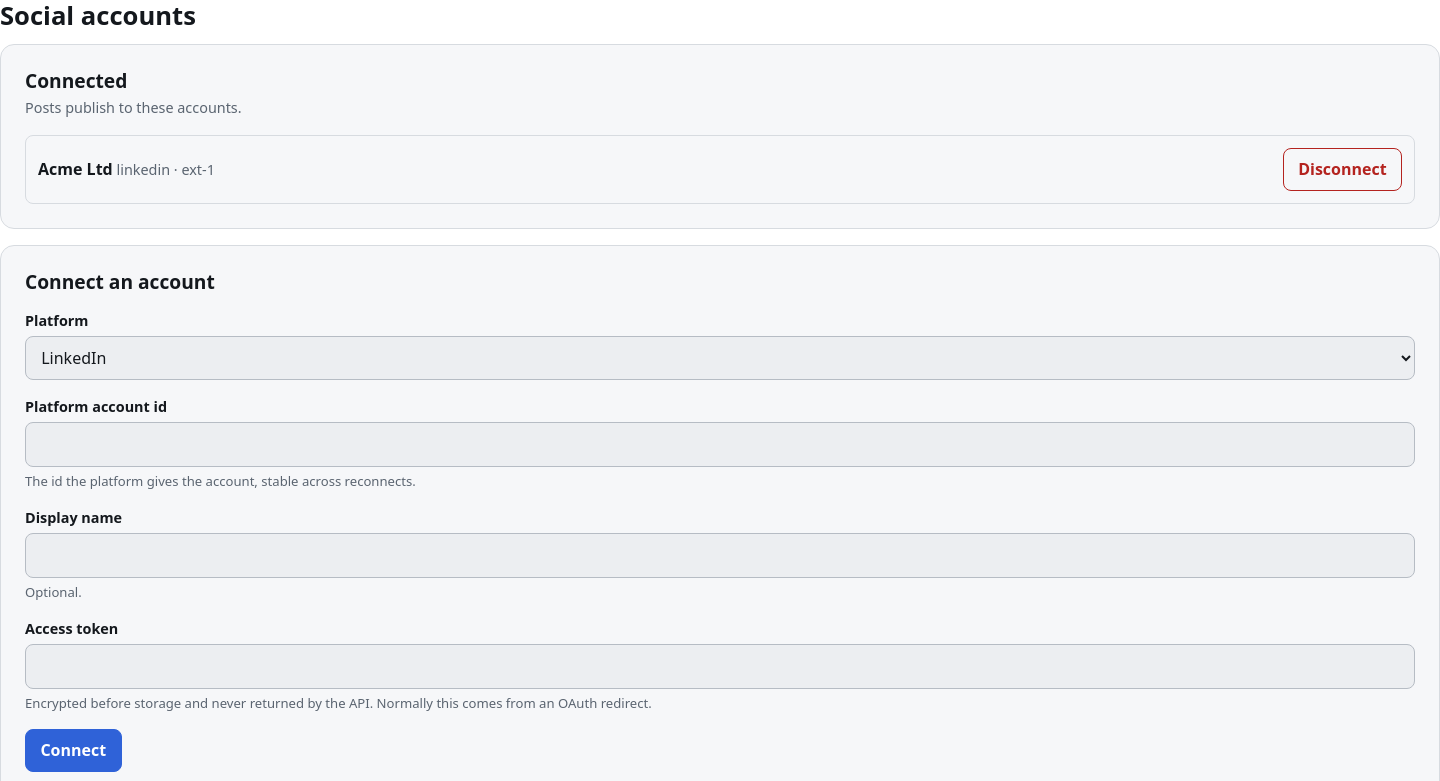
Scenario: AccountsSettings › refuses to disconnect an account with posts still queued
This screenshot has width=1440, height=781.
Step 1. Click the button "Disconnect" → click(1342, 170), box [1283,148,1402,191]
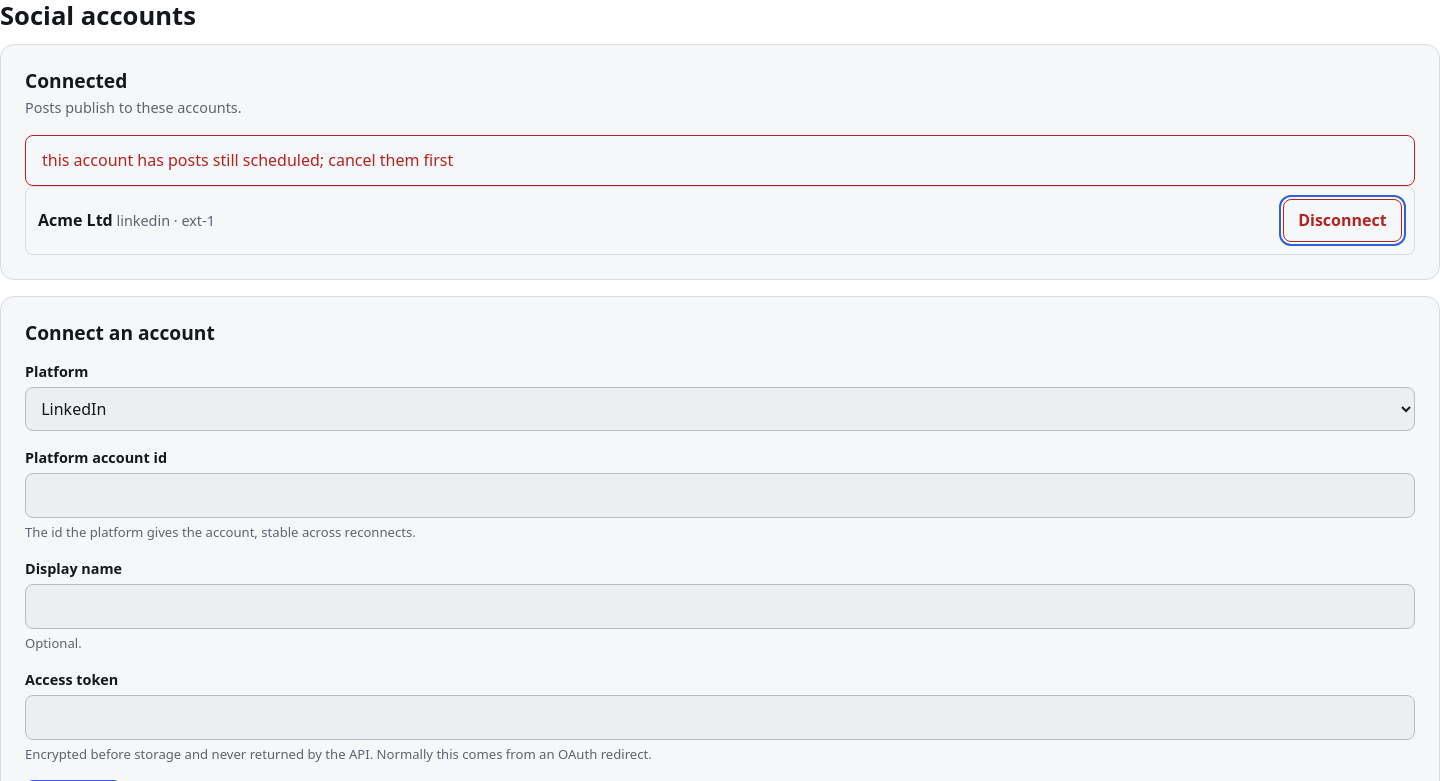
Expected: the text "this account has posts still scheduled; cancel them first" is shown, [42,148,453,173]
